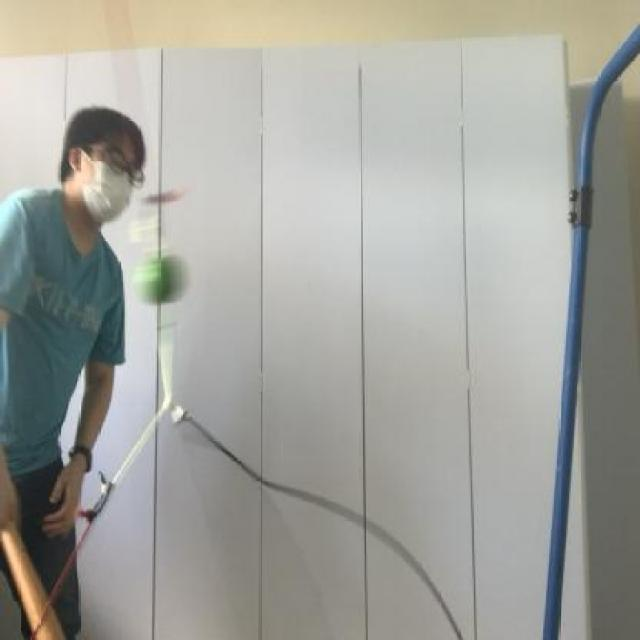baseball: (128, 247, 209, 316)
